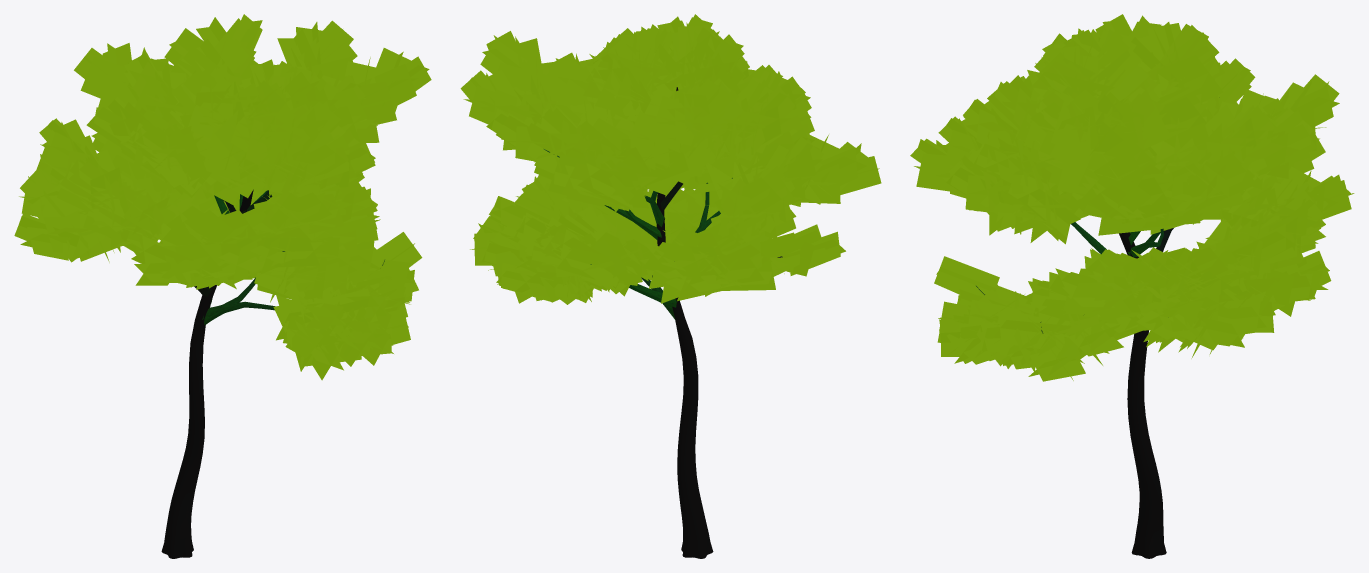
File: stylized_tree.glb
3 views of the same model, side by side, from view 1: azimuth 30°, elevation 25°; view 2: azimuth 150°, elevation 25°; view 3: azimuth 270°, elevation 25° (orthographic). The views are drawn at different scales.
Parts seen in each view (by area): view 1: tree; view 2: tree; view 3: tree.
Boxes of the visible parts, x1,y1,x2,y2 form: tree: [14, 14, 431, 558]; tree: [460, 14, 881, 558]; tree: [910, 14, 1354, 558].
Size of the model in its own units: 4.19 by 5.15 by 3.97.
2 materials, 2 textured.
